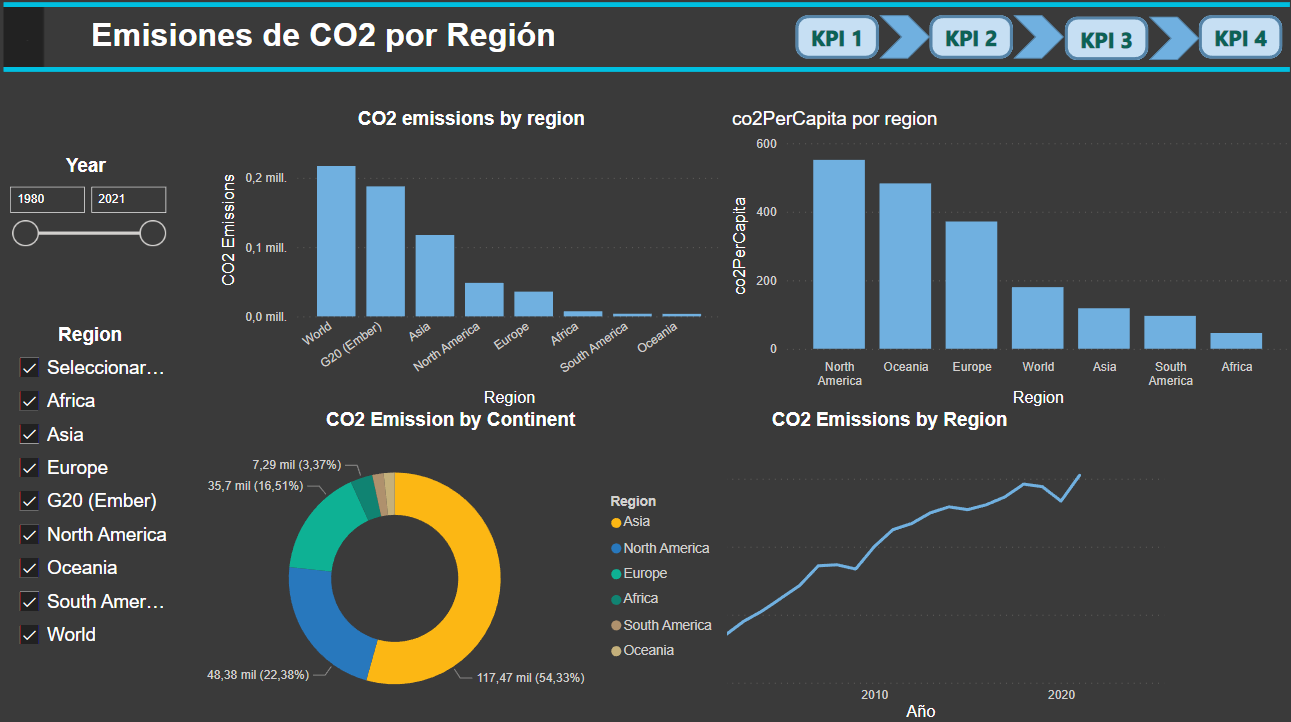

This screenshot's page, from the dashboard's own definition file:
{"tool":"powerbi","page":{"name":"OBJ2-1","canvas":[1280,720],"ordinal":1},"visuals":[{"type":"image","box":[1,0,1278.9,78.5],"z":0},{"type":"columnChart","title":"CO2 emissions by region","fields":{"Category":["region.region"],"Y":["Sum(emission_region.co2emissions)"]},"box":[216.7,108.3,503.3,300],"z":1000},{"type":"slicer","title":"Region","fields":{"Values":["region.region"]},"box":[9.9,321.7,164.4,333.1],"z":2000},{"type":"clusteredColumnChart","fields":{"Category":["region.region"],"Y":["Sum(emission_region.co2PerCapita)"]},"box":[720,108.3,560,300],"z":3000},{"type":"lineChart","title":"CO2 Emissions by Region","fields":{"Y":["Sum(emission_region.co2emissions)"],"Category":["emission_region.year"]},"box":[600.1,406.6,560.2,313.2],"z":4000},{"type":"slicer","title":"Year","fields":{"Values":["emission_region.year"]},"box":[0,155,175,103.3],"z":5000},{"type":"donutChart","title":"CO2 Emission by Continent","fields":{"Y":["Sum(emission_region.co2emissions)"],"Category":["region.region"]},"box":[175,406.7,545,313.3],"z":6000},{"type":"textbox","box":[56.4,15.1,531.4,49.6],"z":7000},{"type":"shape","title":"1","box":[787.1,18.5,82.5,43.3],"z":8000},{"type":"shape","box":[869.6,18.5,50.3,43.3],"z":9000},{"type":"shape","box":[1002.4,18.5,50.3,43.3],"z":10000},{"type":"shape","box":[1135.2,19.9,50.3,43.3],"z":11000},{"type":"shape","title":"1","box":[919.9,18.5,82.5,43.3],"z":12000},{"type":"shape","title":"1","box":[1052.7,19.2,82.5,43.3],"z":13000},{"type":"shape","title":"1","box":[1185.5,18.5,82.5,43.3],"z":14000},{"type":"actionButton","box":[787.1,19.2,82.5,44.7],"z":15000},{"type":"actionButton","box":[919.9,17.8,82.5,44.7],"z":16000},{"type":"actionButton","box":[1052.7,17.8,82.5,44.7],"z":17000},{"type":"actionButton","box":[1185.6,17.8,82.5,44.7],"z":18000}]}

Visuals, with their boxes in screenshot pixels (x1, y1, x2, y2), scaled from the page's 1280x720 canvas onto the 1291x722 screenshot:
image: box(1, 0, 1290, 79)
"CO2 emissions by region" columnChart: box(219, 109, 726, 409)
"Region" slicer: box(10, 323, 176, 657)
clusteredColumnChart - region.region x Sum(emission_region.co2PerCapita): box(726, 109, 1290, 409)
"CO2 Emissions by Region" lineChart: box(605, 408, 1170, 721)
"Year" slicer: box(0, 155, 177, 259)
"CO2 Emission by Continent" donutChart: box(177, 408, 726, 721)
textbox: box(57, 15, 593, 65)
"1" shape: box(794, 19, 877, 62)
shape: box(877, 19, 928, 62)
shape: box(1011, 19, 1062, 62)
shape: box(1145, 20, 1196, 63)
"1" shape: box(928, 19, 1011, 62)
"1" shape: box(1062, 19, 1145, 63)
"1" shape: box(1196, 19, 1279, 62)
actionButton: box(794, 19, 877, 64)
actionButton: box(928, 18, 1011, 63)
actionButton: box(1062, 18, 1145, 63)
actionButton: box(1196, 18, 1279, 63)
